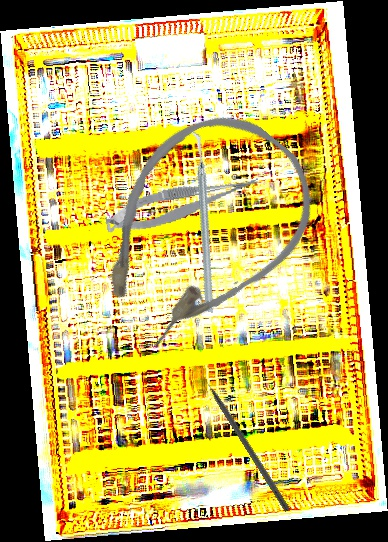Cannula: (57, 83, 342, 378)
Chopper: (130, 127, 272, 314)
Hook Surgical: (198, 369, 293, 513)
Micro Scissor: (102, 171, 263, 237)
